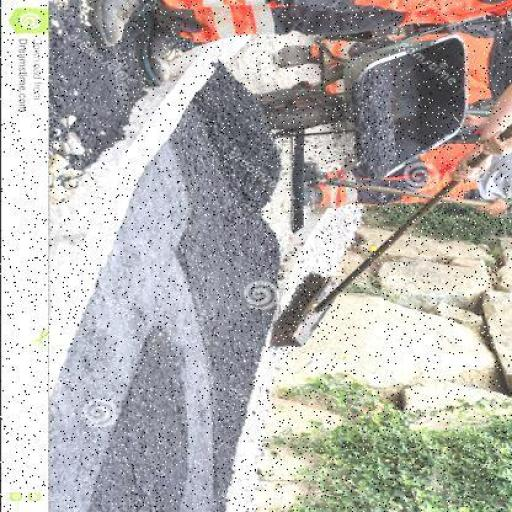safety_shoe: (139, 12, 191, 88), (93, 0, 153, 47), (272, 46, 322, 70), (304, 156, 336, 184), (301, 188, 321, 206)
